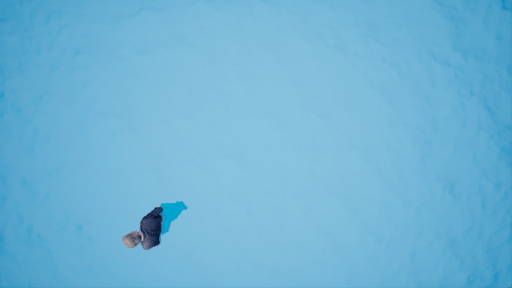person: (116, 198, 196, 256)
